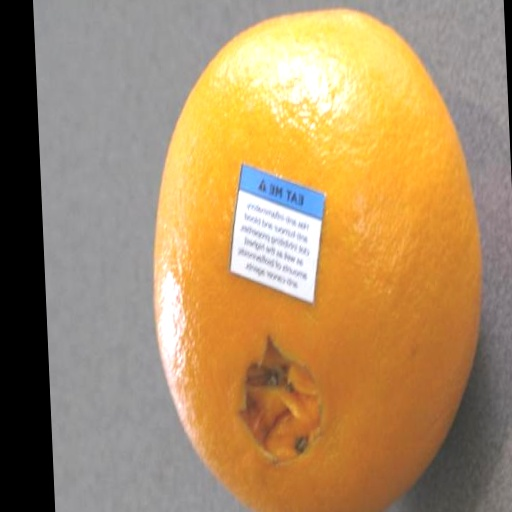fruit: (154, 10, 480, 512)
